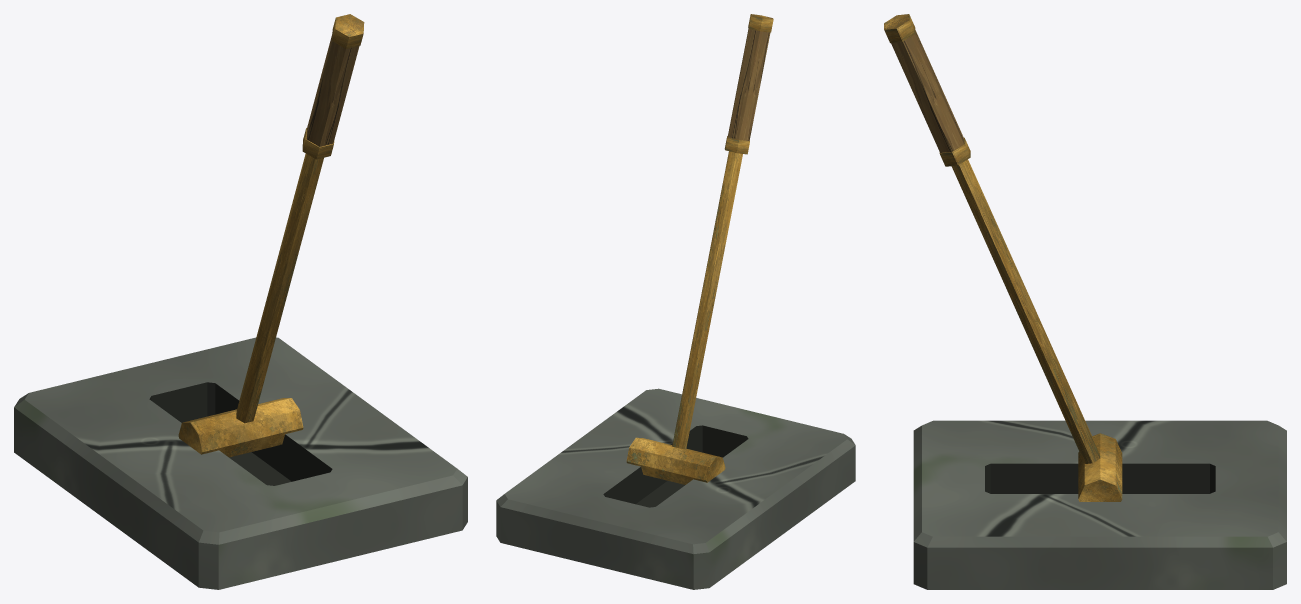
File: Lever_floor_Anim.fbx
3 views of the same model, side by side, from view 1: azimuth 30°, elevation 25°; view 2: azimuth 150°, elevation 25°; view 3: azimuth 270°, elevation 25° (orthographic). The views are drawn at different scales.
Visible parts, largest first — view 1: SM_Lever_Base, SM_Lever_Handle_Rotate_X; view 2: SM_Lever_Base, SM_Lever_Handle_Rotate_X; view 3: SM_Lever_Base, SM_Lever_Handle_Rotate_X.
Part boxes in pixels (x1,y1,x2,y2): SM_Lever_Base: (14, 337, 467, 589); SM_Lever_Handle_Rotate_X: (236, 14, 364, 423); SM_Lever_Base: (496, 388, 855, 589); SM_Lever_Handle_Rotate_X: (672, 14, 773, 449); SM_Lever_Base: (913, 420, 1286, 589); SM_Lever_Handle_Rotate_X: (884, 14, 1100, 463).
Bounding box in the file's own units: 53 × 103 × 73.38.
4 materials, 3 textured.
